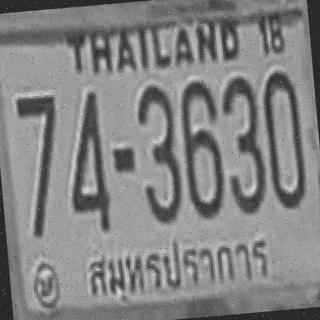N00: (259, 67, 307, 208)
N03: (134, 84, 184, 222), (218, 74, 266, 213)
N04: (61, 88, 111, 231)
N07: (13, 92, 62, 198), (13, 91, 61, 188), (13, 92, 60, 178)
P57: (76, 225, 280, 305)
